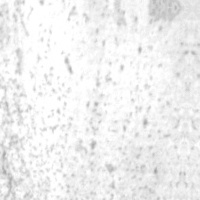pitted_surface: (29, 0, 191, 199), (0, 19, 47, 199)
